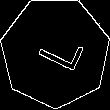L_NW: (26, 27, 84, 77)
